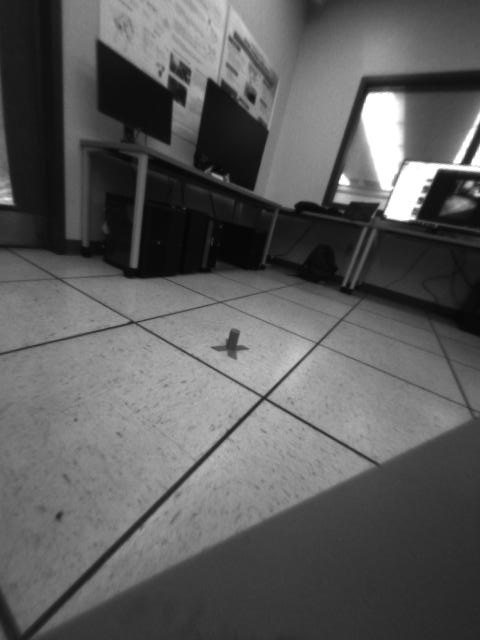X: (209, 327, 249, 362)
